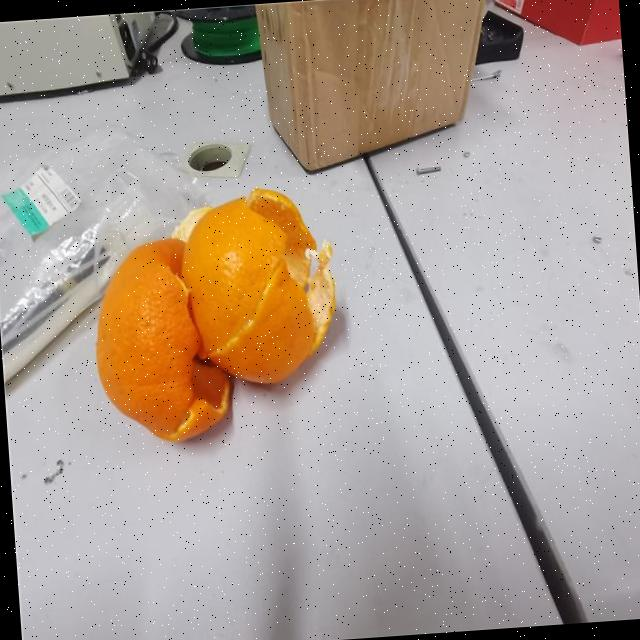orange-peel: (83, 180, 346, 448)
